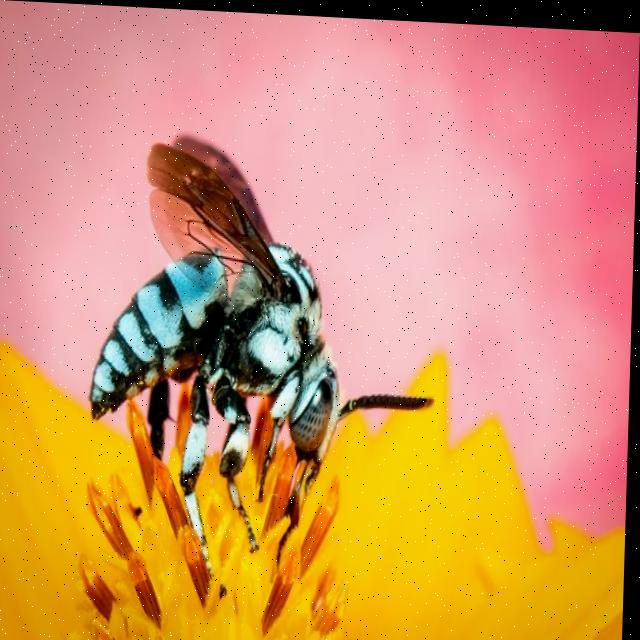Thyreus: (84, 115, 449, 544)
